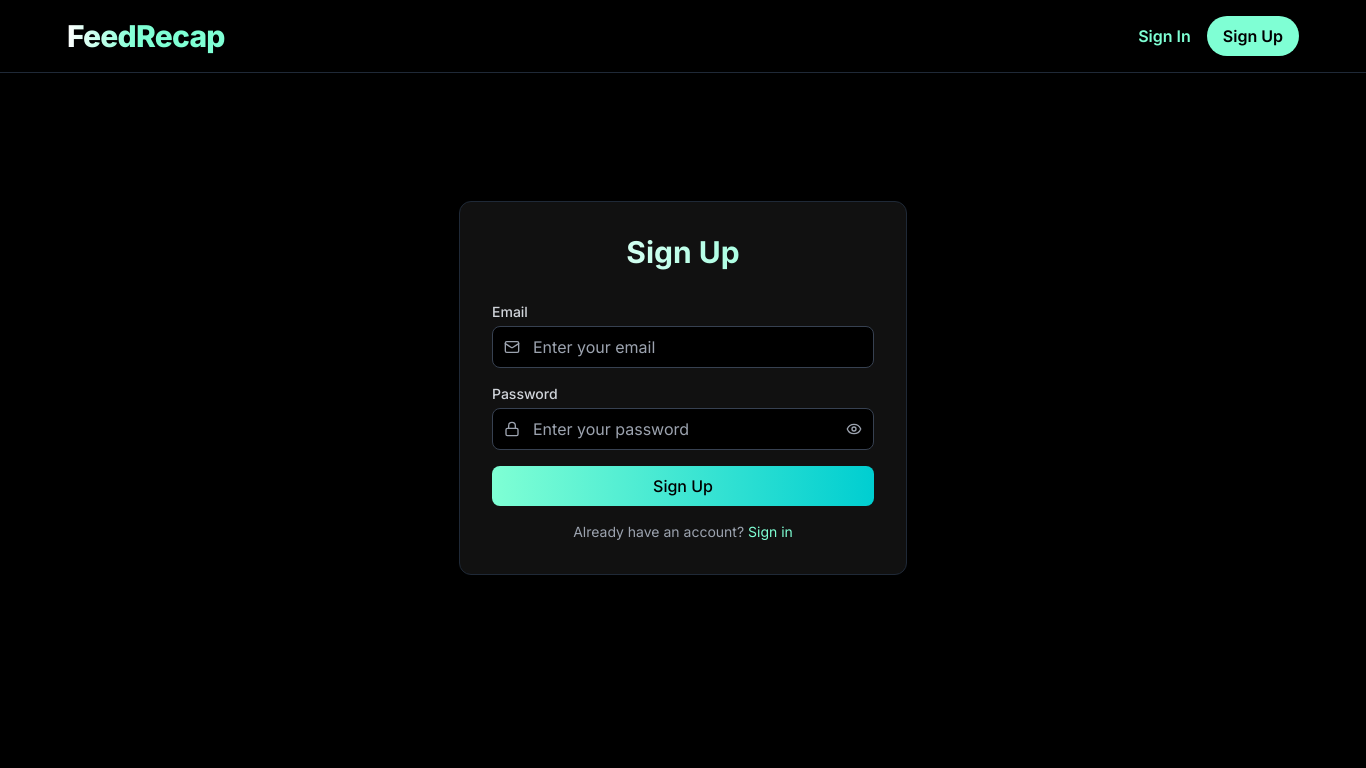
Test: Signup page › shows validation errors for an empty submission
This screenshot has width=1366, height=768.
Click the button "Sign Up" below "Password" at (683, 486), box [492,466,874,506]
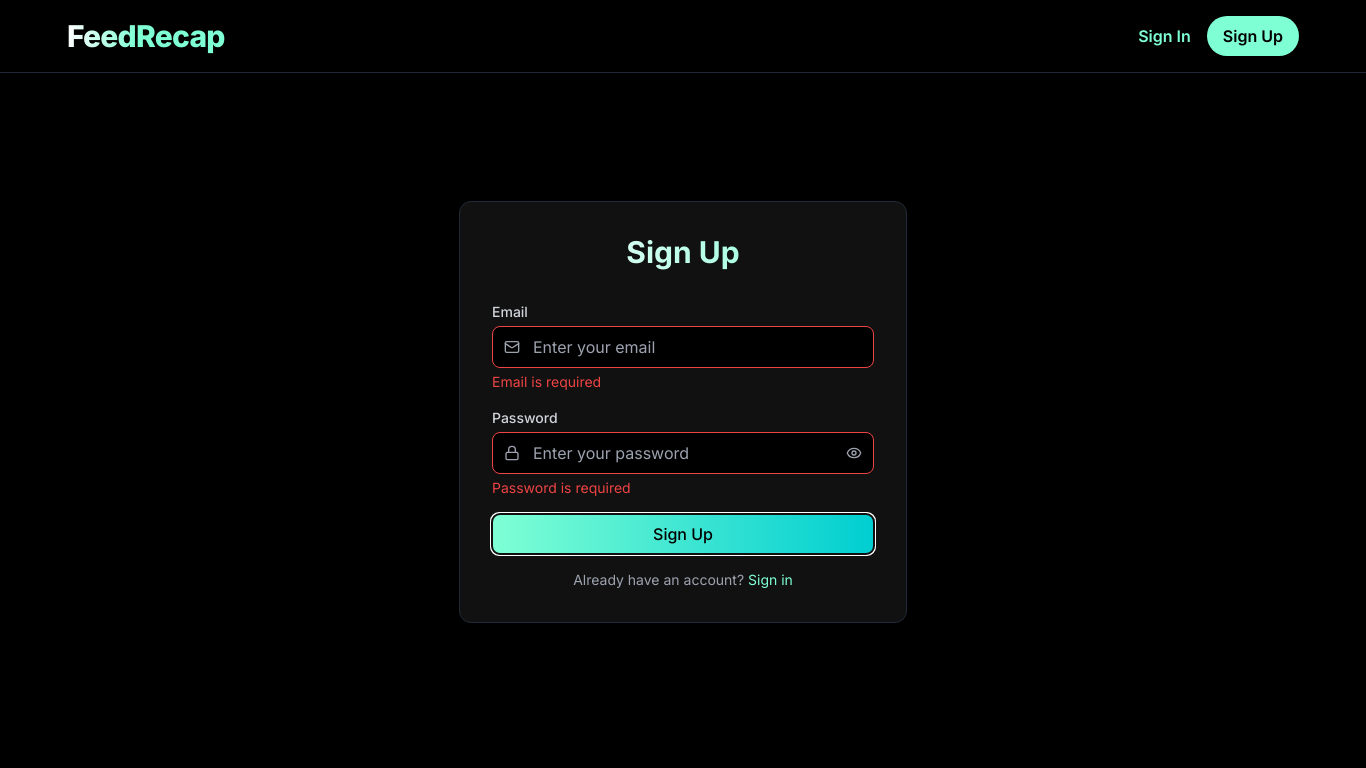
Expected: the text "Email is required" is shown, [492,373,601,390]
Expected: the text "Password is required" is shown, [492,479,631,496]
